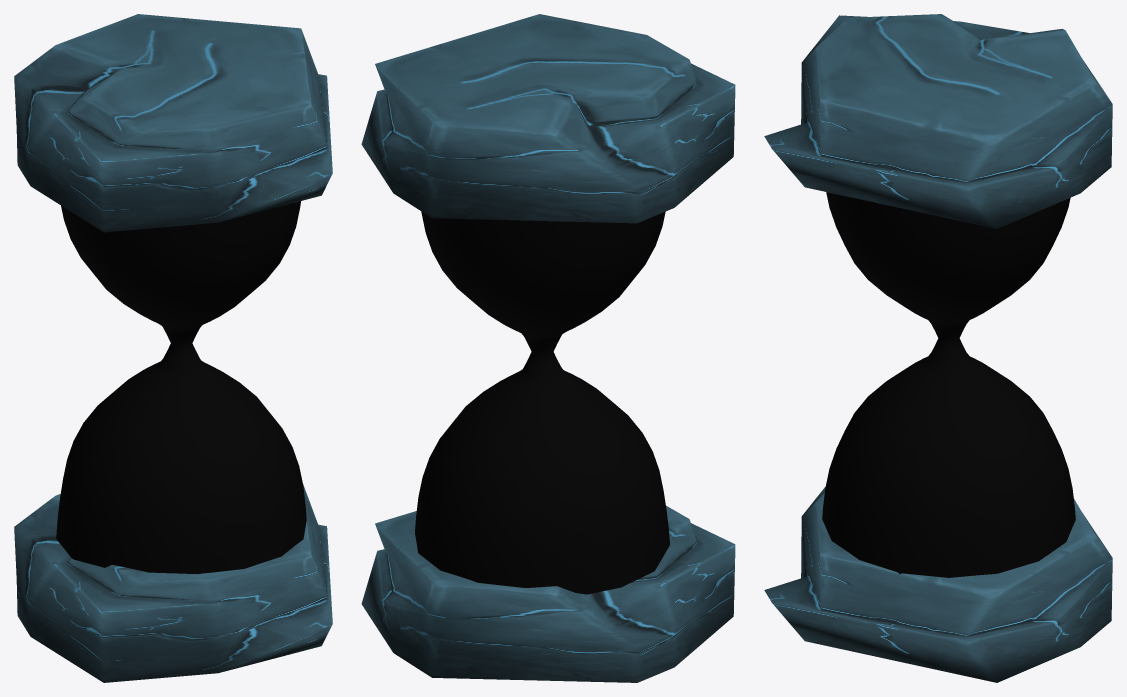
File: hourglass.fbx
The picture shows the model from 3 angles, left to right: view 1: azimuth 30°, elevation 25°; view 2: azimuth 150°, elevation 25°; view 3: azimuth 270°, elevation 25°; orthographic projection. The views are drawn at different scales.
Visible parts, largest first — view 1: Line002, rock_lp_024, rock_lp_06; view 2: Line002, rock_lp_024, rock_lp_06; view 3: Line002, rock_lp_024, rock_lp_06.
Boxes of the visible parts, bbox=[...] form: Line002: bbox=[56, 201, 306, 574]; rock_lp_024: bbox=[14, 14, 332, 232]; rock_lp_06: bbox=[14, 484, 332, 682]; Line002: bbox=[415, 211, 669, 594]; rock_lp_024: bbox=[361, 14, 735, 223]; rock_lp_06: bbox=[361, 505, 735, 682]; Line002: bbox=[822, 192, 1075, 577]; rock_lp_024: bbox=[764, 14, 1112, 228]; rock_lp_06: bbox=[764, 487, 1112, 682].
Bounding box in the file's own units: 2256 × 3954 × 2290.
